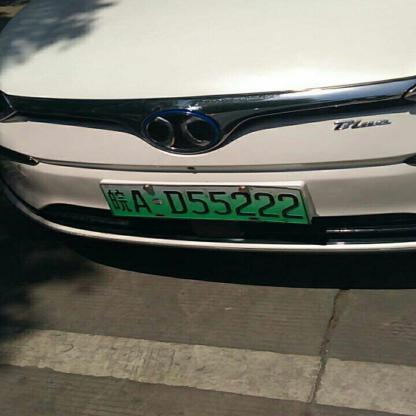lp: (101, 184, 307, 222)
